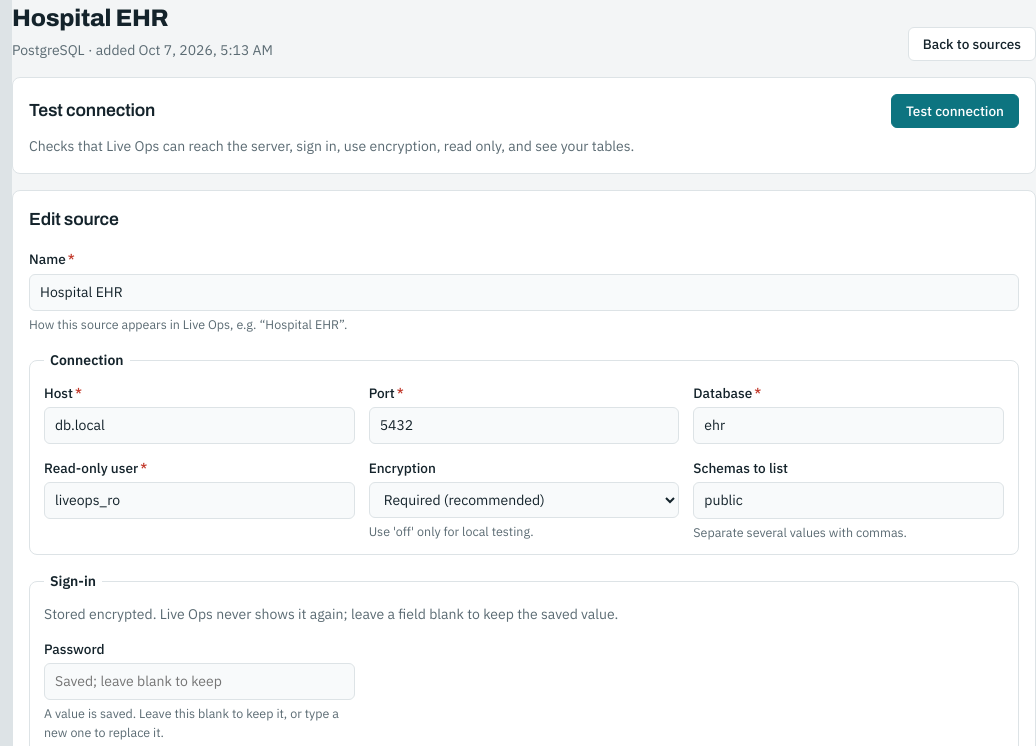
Scenario: Sources › test connection shows each step with a mark, detail and plain-words hint
Click the button "Test connection".
click(955, 111)  # box [891,94,1019,128]
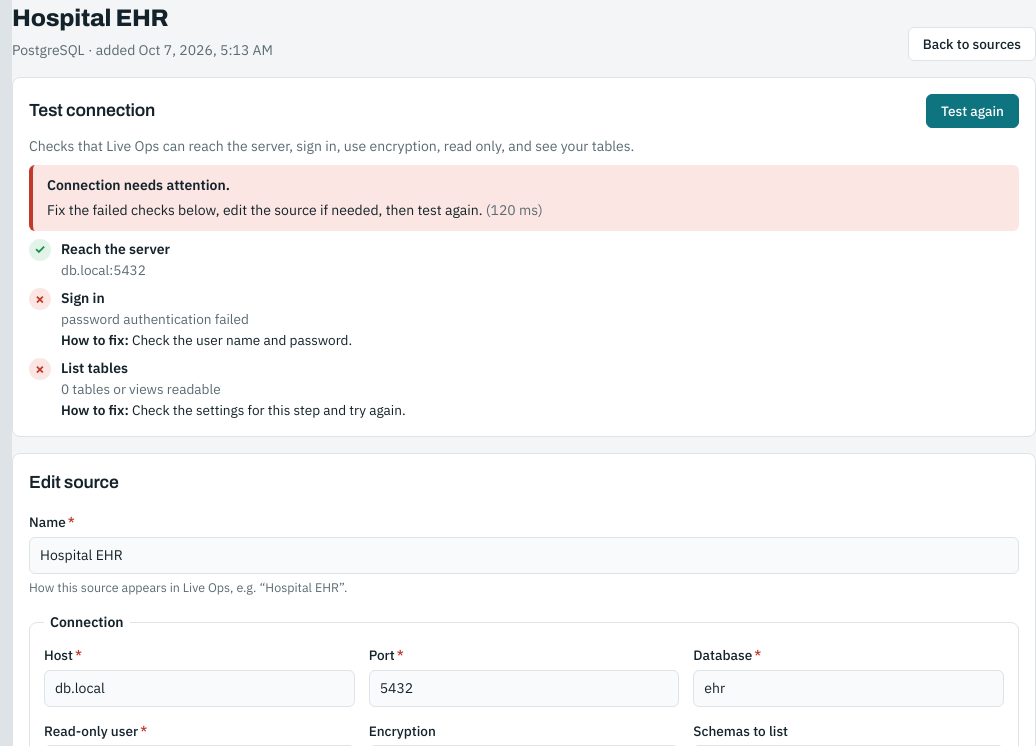
Check: the number of list items is 3, box [29,239,221,279]; [29,288,352,349]; [29,358,406,419]
Check: the list item "✓ Reach the server db.local:5432" is shown, box [29,239,221,279]
Check: the list item that starts with "Sign in" shows "✗", box [34,291,46,308]
